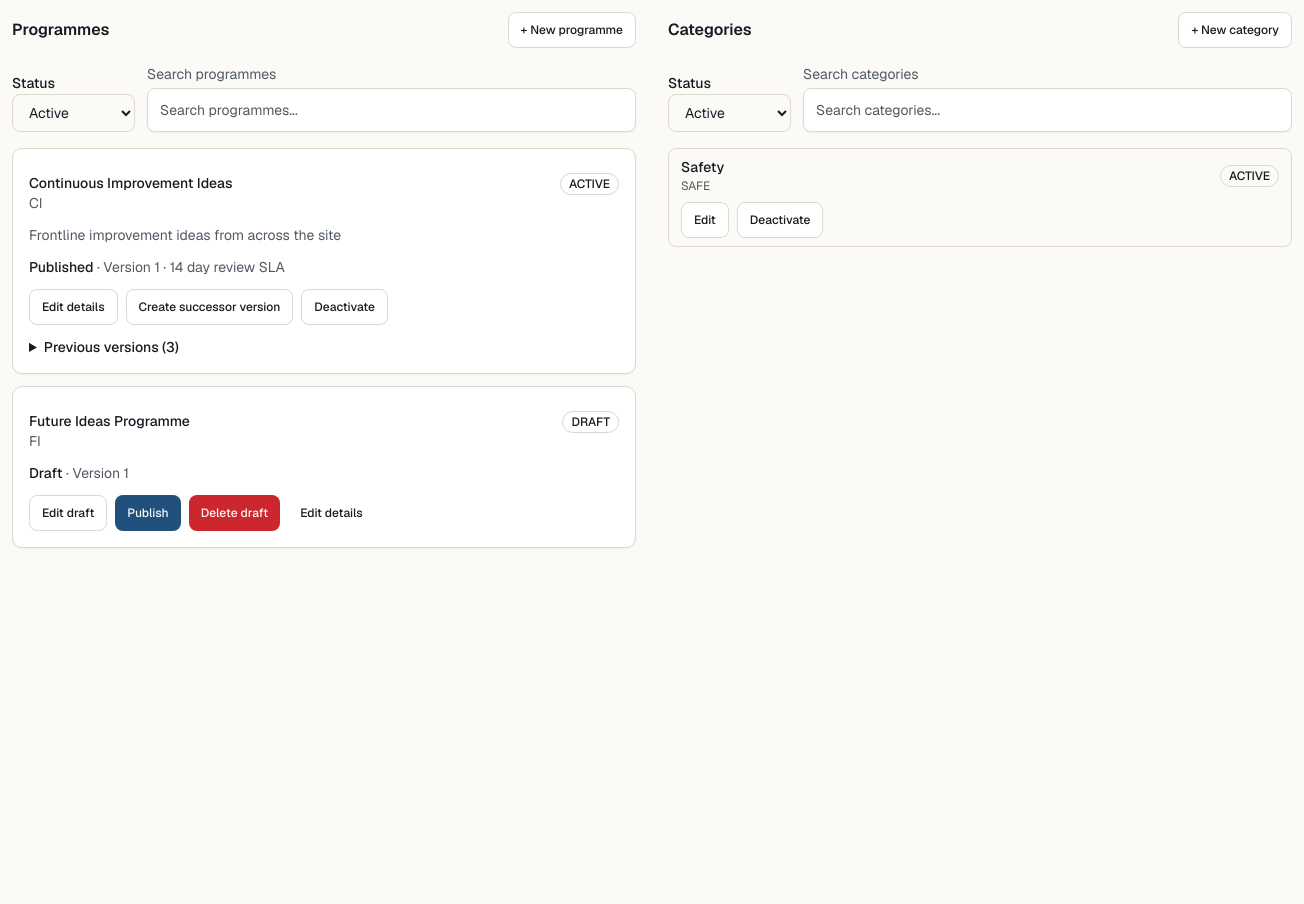
Test case: ProgrammeManagement administration UX › reveals custom programme code override from advanced toggle
Click the button with test id "new-programme-button". click: (572, 30)
box: x1=508 y1=12 x2=636 y2=48
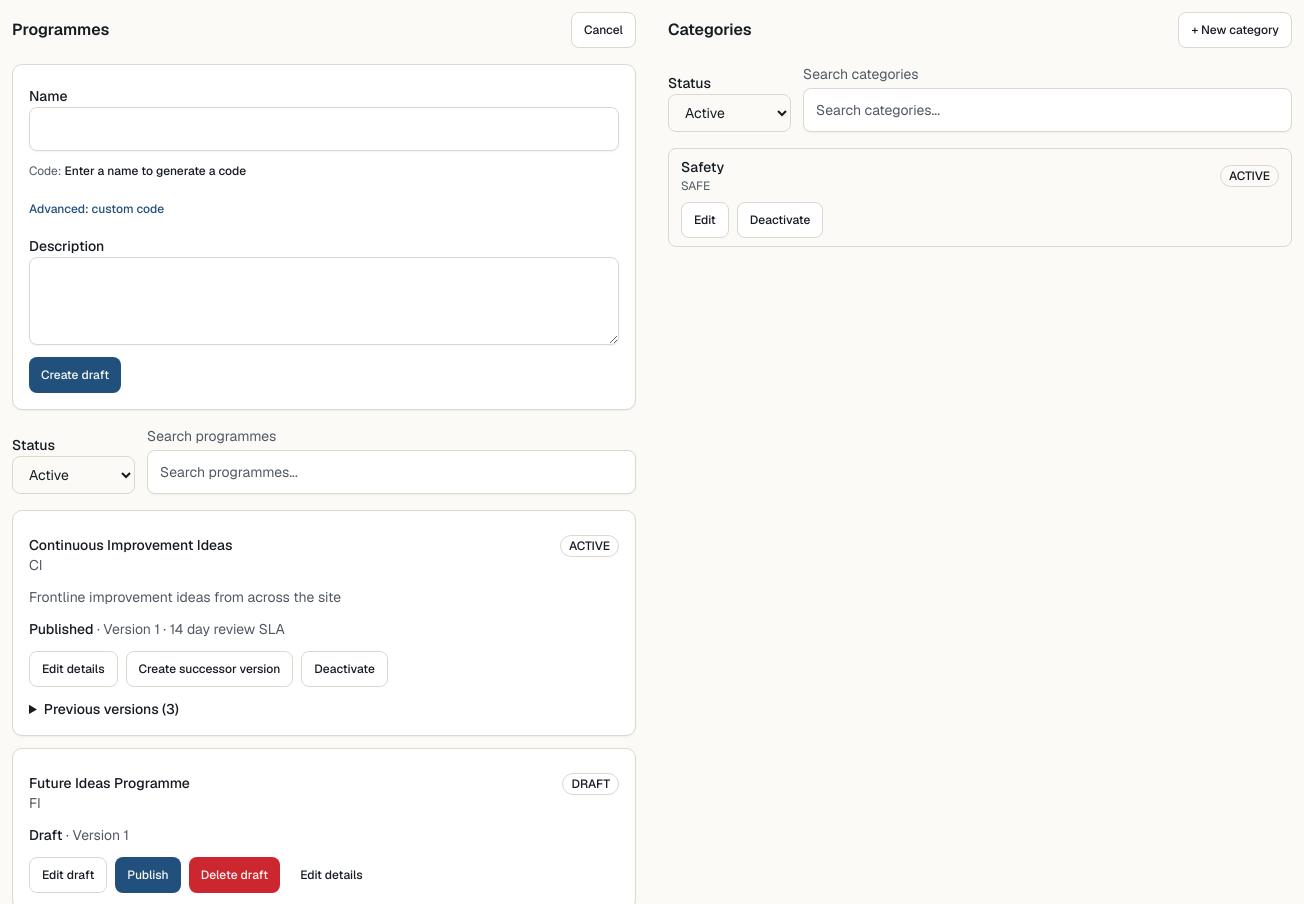
Type "Safety Ideas" into the field labelled "Name". click: (324, 129)
box: x1=29 y1=107 x2=619 y2=151
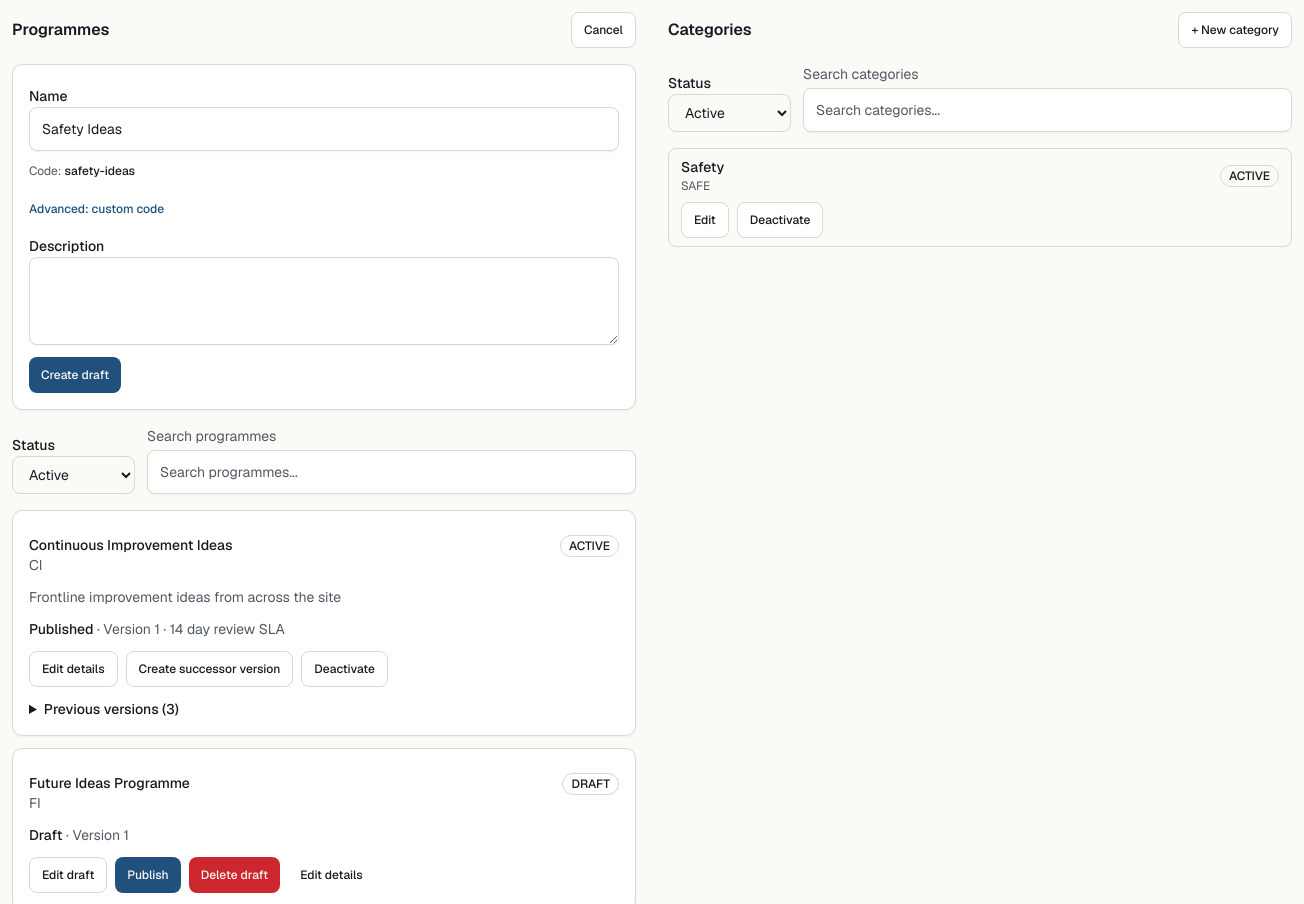
Click the button with test id "programme-custom-code-toggle". click: (97, 209)
box: x1=29 y1=191 x2=164 y2=227
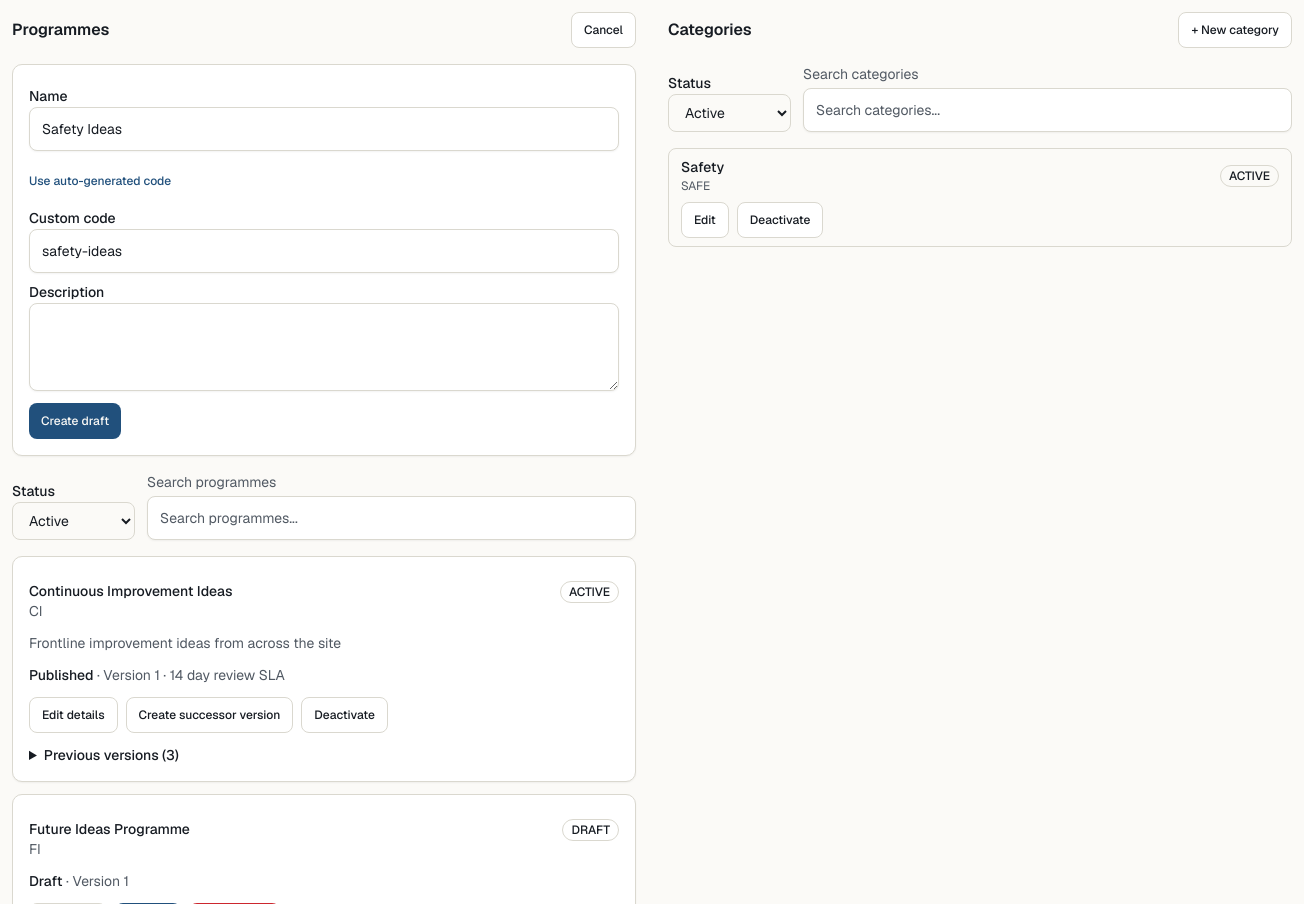
Now the field with test id "programme-custom-code-input" holds "safety-ideas", box x1=29 y1=229 x2=619 y2=273
